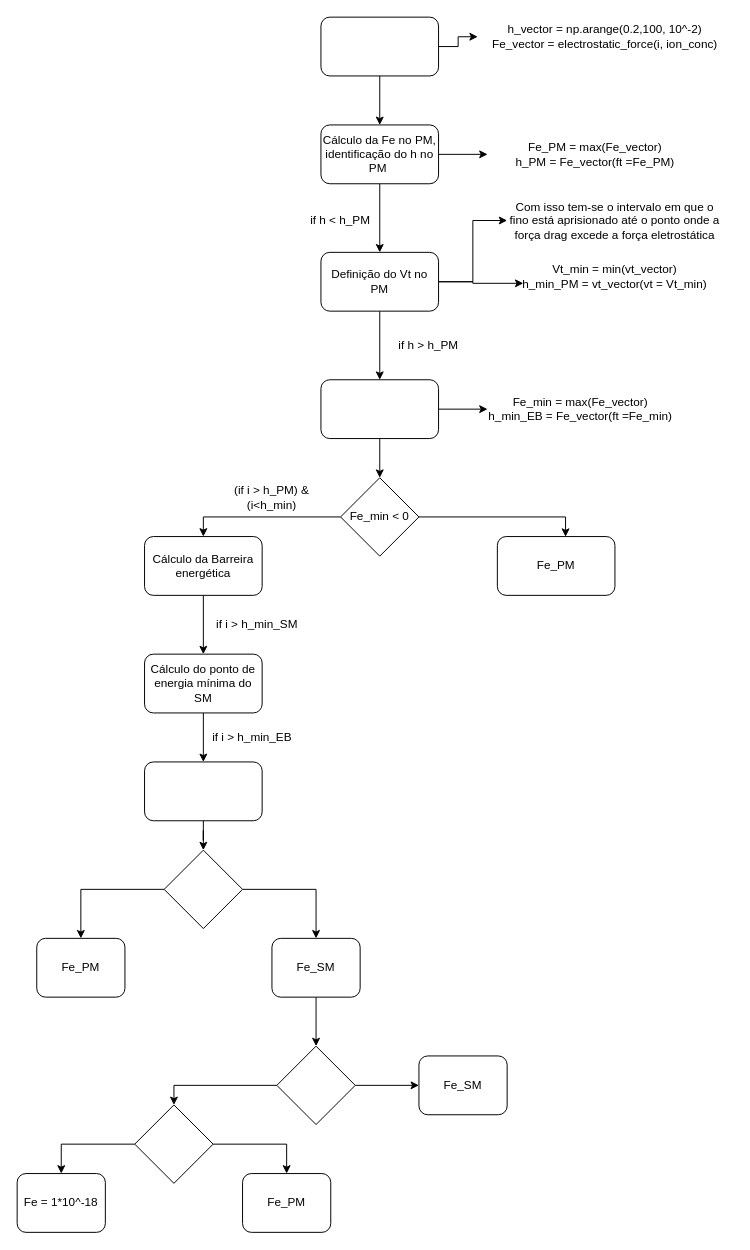
This 750x1250 diagram has some shape labels left out. Each missing label, with the box of its shape:
Cálculo da Fe no SM: (144, 761, 262, 821)
Definição do Ft_min após PM (EB): (320, 379, 439, 439)
if EB <20: (163, 849, 243, 929)
if EB > 20: (134, 1104, 213, 1183)
if Fe_SM < 0: (276, 1045, 355, 1125)
Seleção do intervalo de h e cálculo da Fe: (320, 16, 439, 76)
